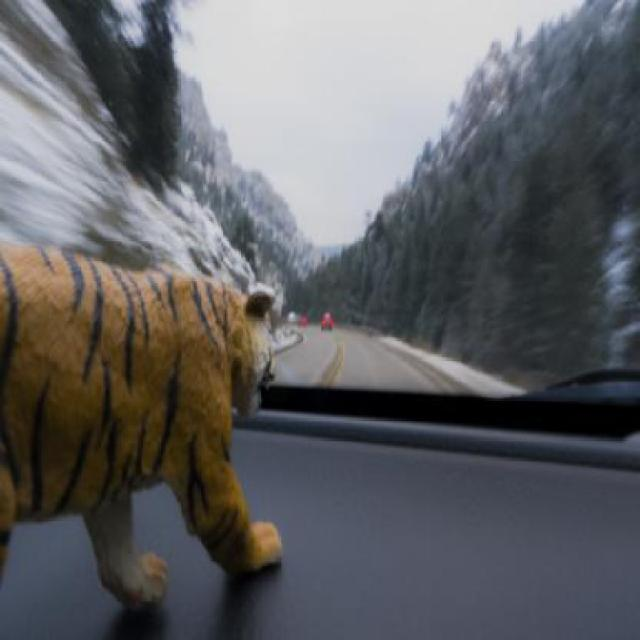Tiger: (0, 239, 277, 606)
